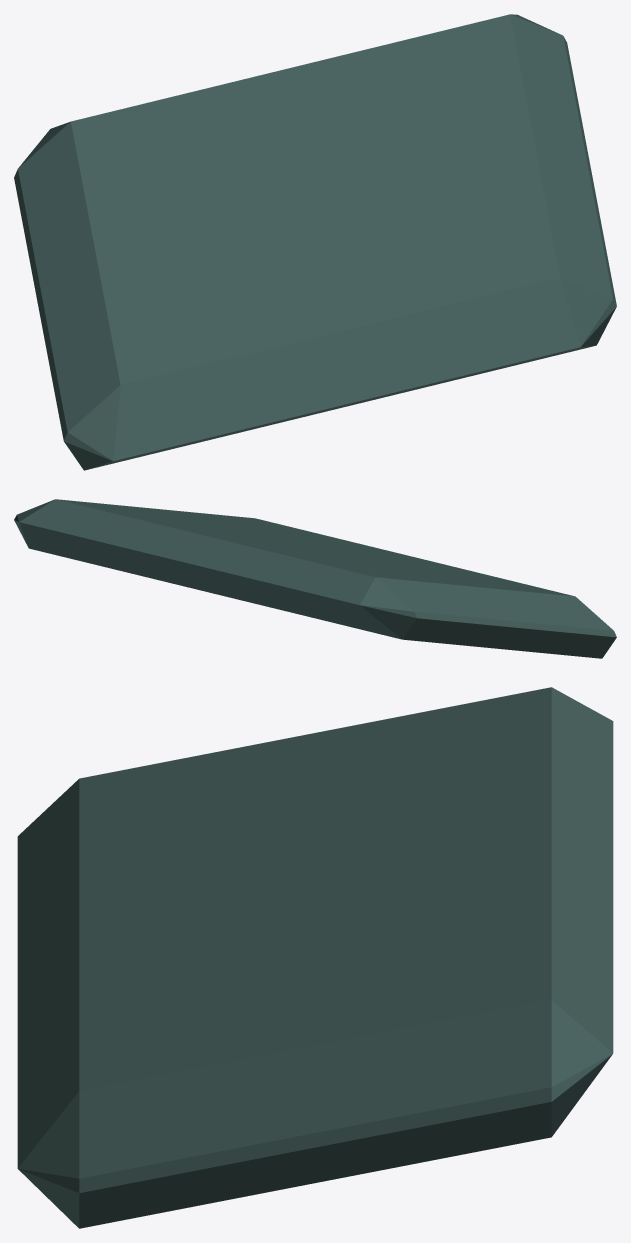
The model's file is Plate_Base.gltf.
3 views of the same model, one above another, from view 1: azimuth 30°, elevation 25°; view 2: azimuth 150°, elevation 25°; view 3: azimuth 270°, elevation 25° (orthographic). The views are drawn at different scales.
Visible parts, largest first — view 1: Plate_Base_baked; view 2: Plate_Base_baked; view 3: Plate_Base_baked.
Part boxes in pixels (x1,y1,x2,y2): Plate_Base_baked: (14, 14, 616, 470); Plate_Base_baked: (14, 499, 616, 658); Plate_Base_baked: (17, 687, 613, 1228).
Bounding box in the file's own units: 1.09 × 0.304 × 0.58.
